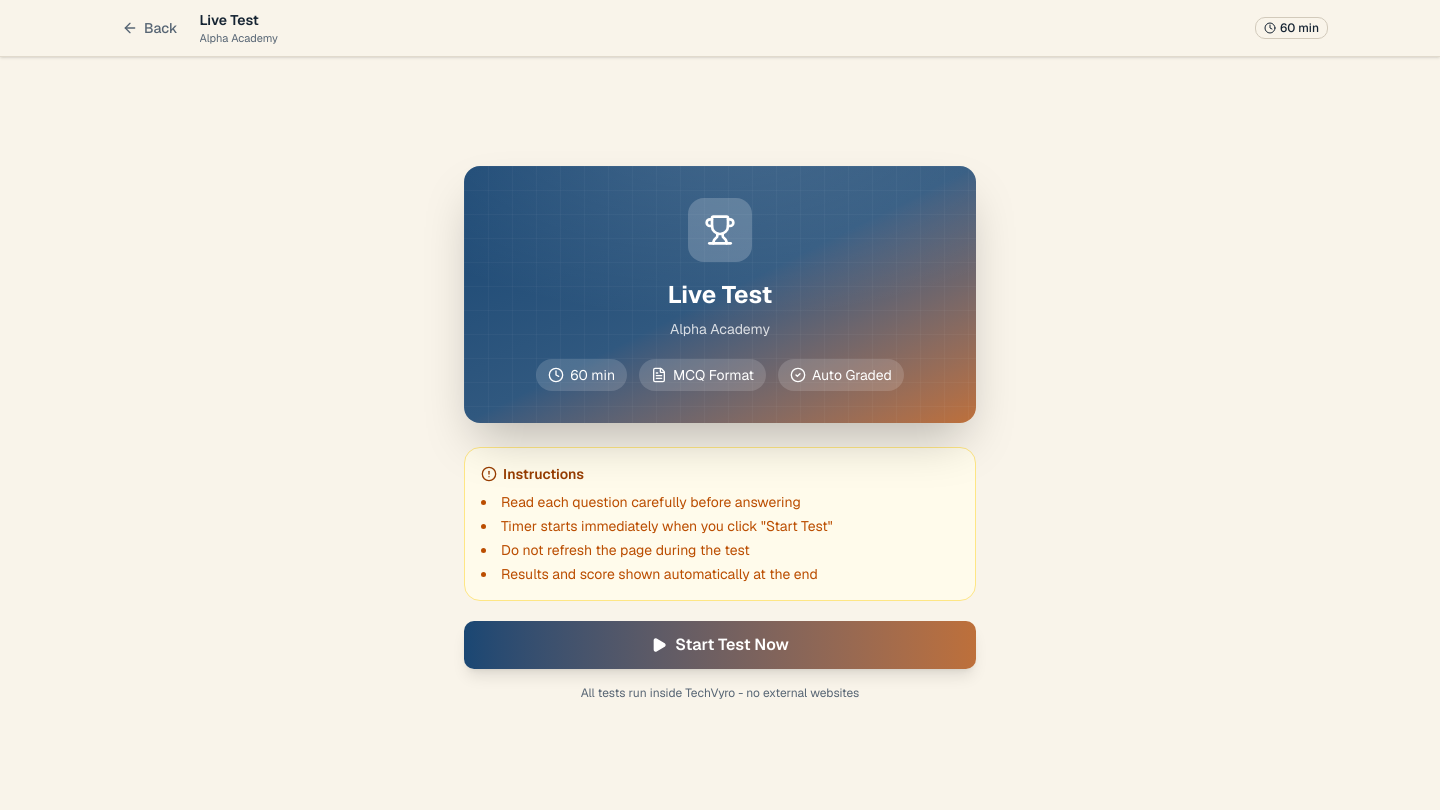
Test: live test start analytics › does not track when question loading fails
The image size is (1440, 810).
Click the button "Start Test Now": (720, 645) [464, 621, 976, 669]
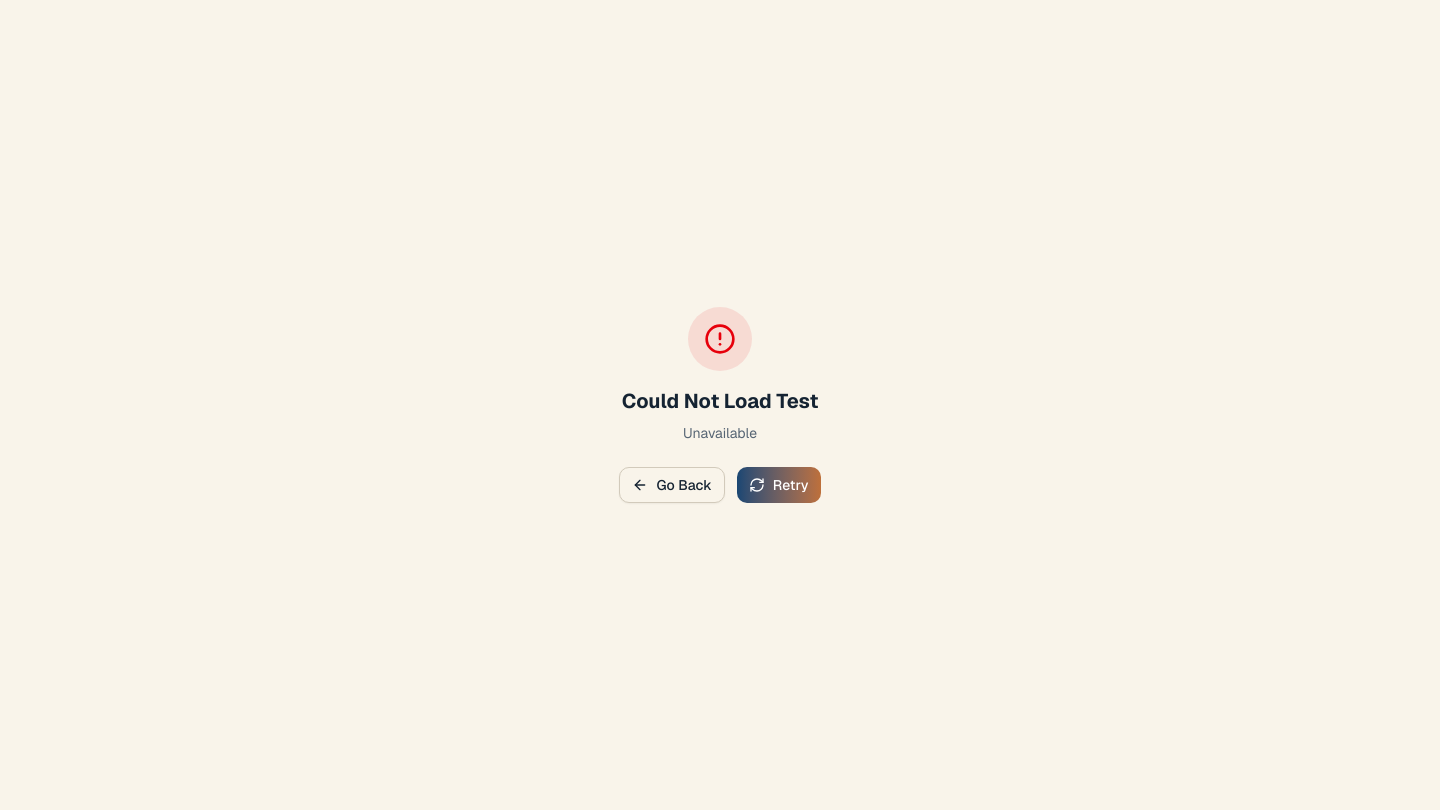
Expected: the heading "Could Not Load Test" is shown, [622, 388, 818, 414]
